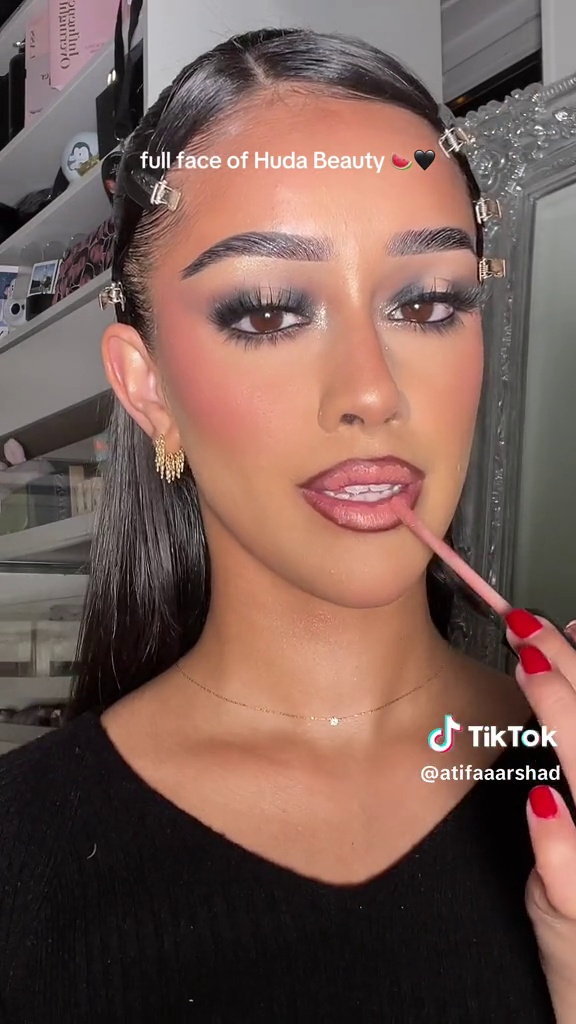train' :'yolo_data/train/images',: (374, 483, 576, 678)
